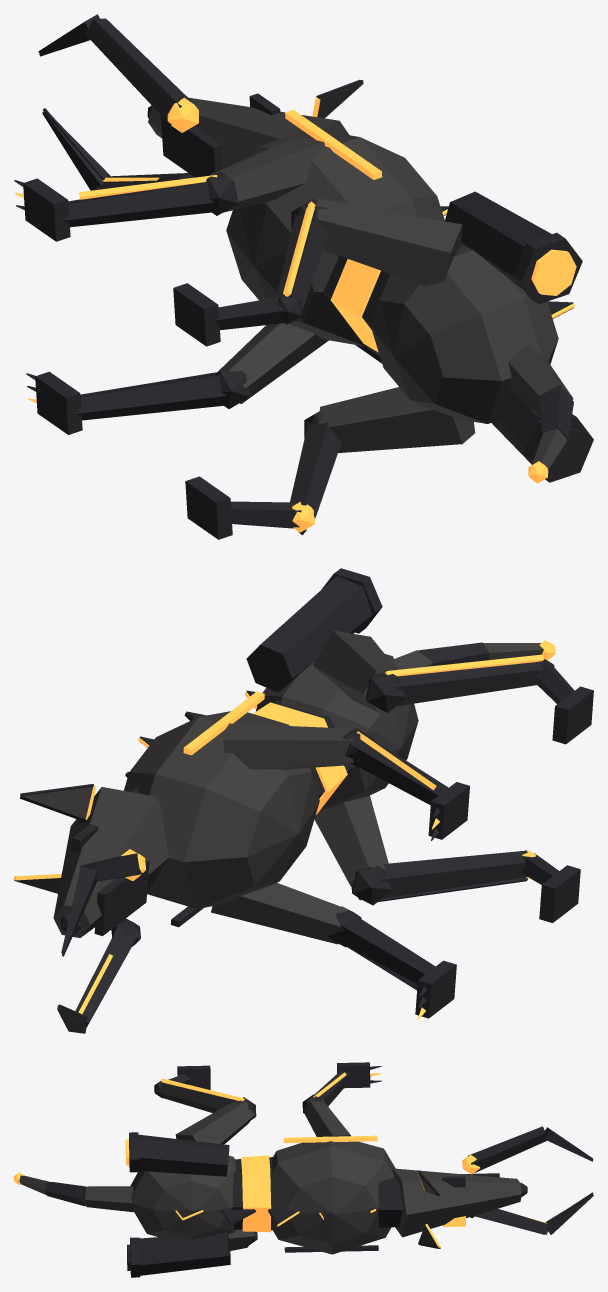
The model's file is Wreck_Chromejaw.fbx.
3 renders of one model, top to bottom at view 1: azimuth 30°, elevation 25°; view 2: azimuth 150°, elevation 25°; view 3: azimuth 270°, elevation 25°, orthographic. The views are drawn at different scales.
Parts seen in each view (by area): view 1: Wreck_Chromejaw; view 2: Wreck_Chromejaw; view 3: Wreck_Chromejaw.
Part boxes in pixels (<box>): Wreck_Chromejaw: <box>14,14,593,539</box>; Wreck_Chromejaw: <box>14,568,593,1033</box>; Wreck_Chromejaw: <box>14,1062,593,1277</box>.
Bounding box in the file's own units: 0.5721 × 0.3449 × 1.24.
